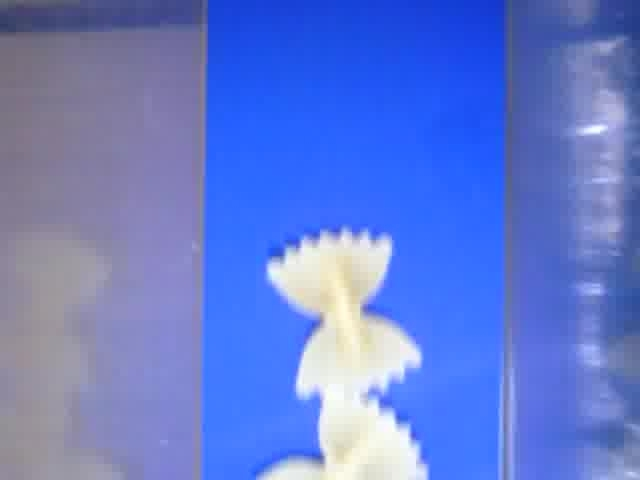farfalle: (265, 228, 423, 399), (254, 387, 429, 480)
